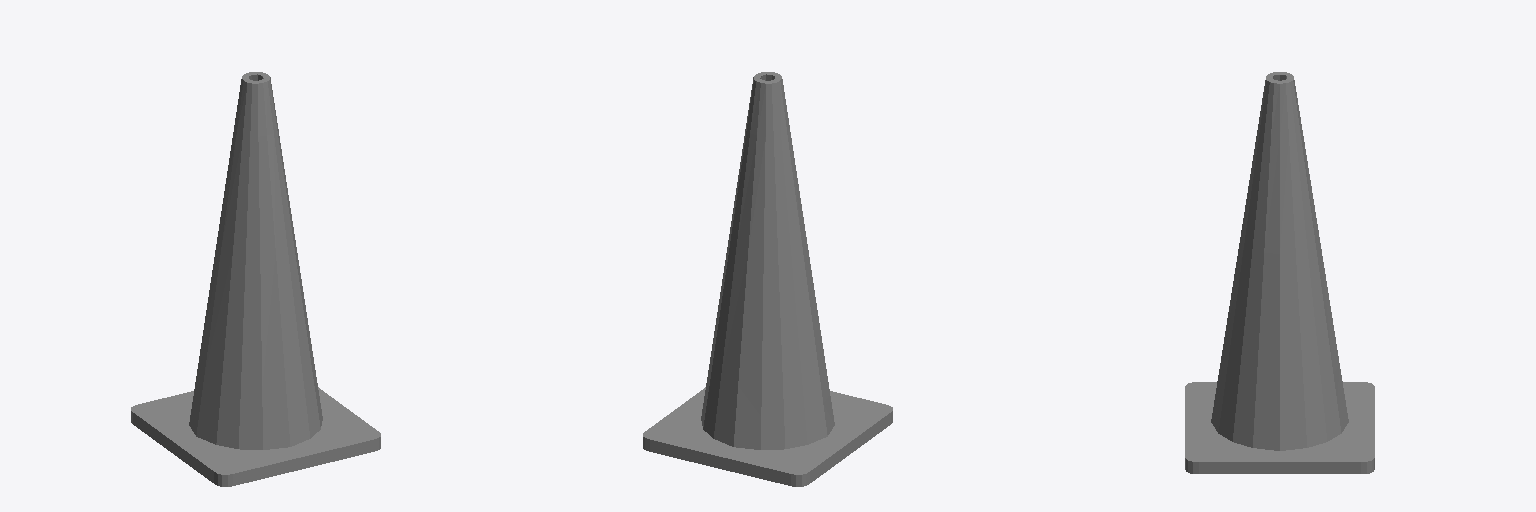
File: objPylon.obj
3 renders of one model, left to right at view 1: azimuth 30°, elevation 25°; view 2: azimuth 150°, elevation 25°; view 3: azimuth 270°, elevation 25°, orthographic.
Parts seen in each view (by area): view 1: objPylon; view 2: objPylon; view 3: objPylon.
Boxes of the visible parts, <box> form: objPylon: <box>131,72,380,486</box>; objPylon: <box>643,72,892,486</box>; objPylon: <box>1185,72,1374,473</box>.
Bounding box in the file's own units: 13.78 × 28.54 × 13.78.